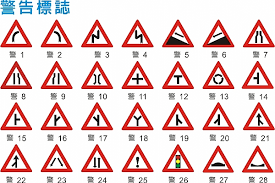Narrow_road: (240, 18, 275, 49), (40, 61, 72, 89), (1, 61, 32, 89)
